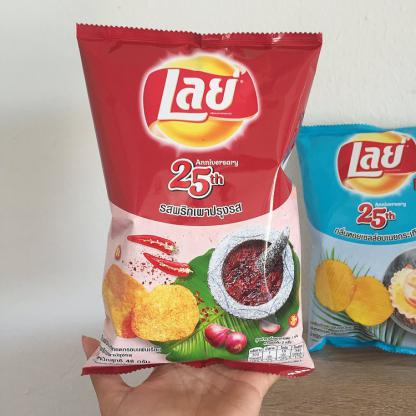potatochip: (69, 17, 329, 385), (288, 120, 416, 363)
